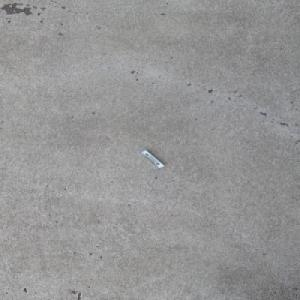ClampPart: (138, 149, 165, 168)
